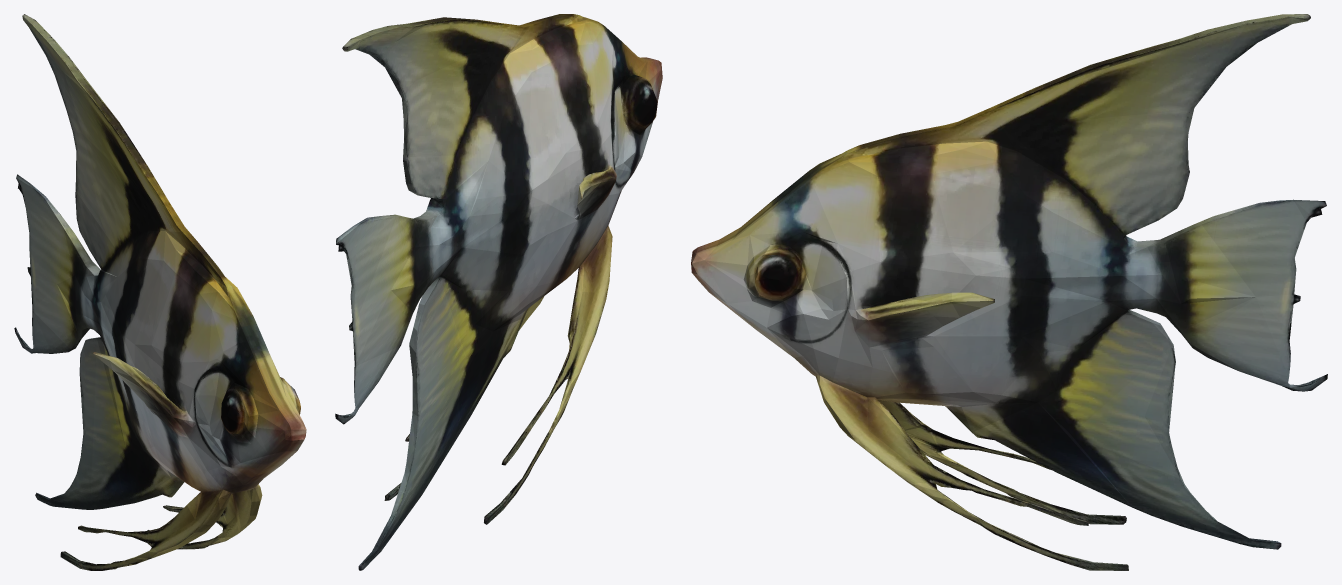
Rendered from Copilot3D-fish3.glb.
3 renders of one model, left to right at view 1: azimuth 30°, elevation 25°; view 2: azimuth 150°, elevation 25°; view 3: azimuth 270°, elevation 25°, orthographic. The views are drawn at different scales.
Parts seen in each view (by area): view 1: world; view 2: world; view 3: world.
Boxes of the visible parts, x1,y1,x2,y2 form: world: (14, 14, 306, 570); world: (335, 14, 662, 570); world: (691, 14, 1327, 570).
Bounding box in the file's own units: 0.2868 × 0.9234 × 0.9981.
1 material, 1 textured.
